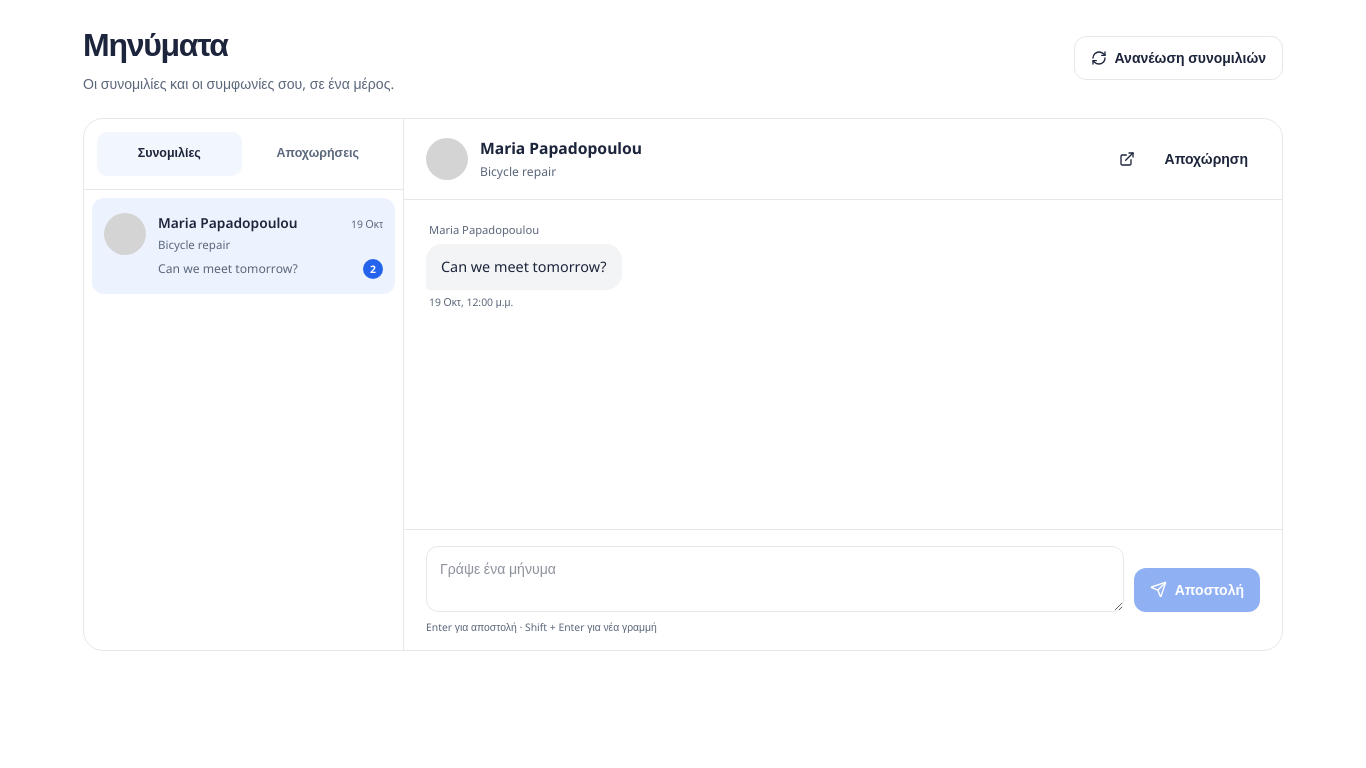
Inbox user journeys › shows the inbox, membership and send controls in Greek
Check: the heading "Μηνύματα" is shown, box x1=83 y1=22 x2=228 y2=65
Check: the text named "2 μη αναγνωσμένα" is shown, box x1=363 y1=259 x2=383 y2=279
Type "Γεια σου" into the text box labelled "μήνυμα" at (775, 579), box x1=426 y1=546 x2=1124 y2=612
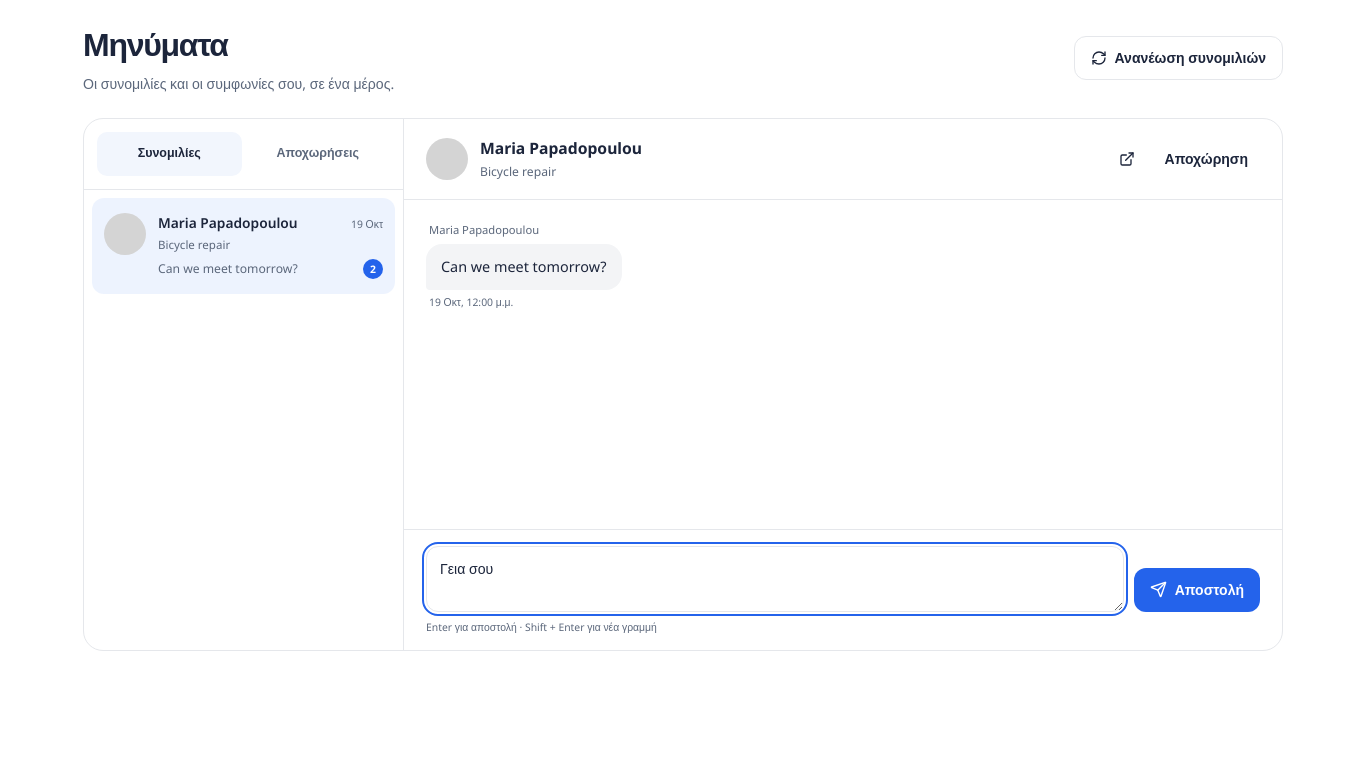
Check: the button "Αποστολή" is enabled, box x1=1134 y1=568 x2=1260 y2=612
Click the button "Αποχώρηση" at (1206, 159), box x1=1153 y1=137 x2=1260 y2=181
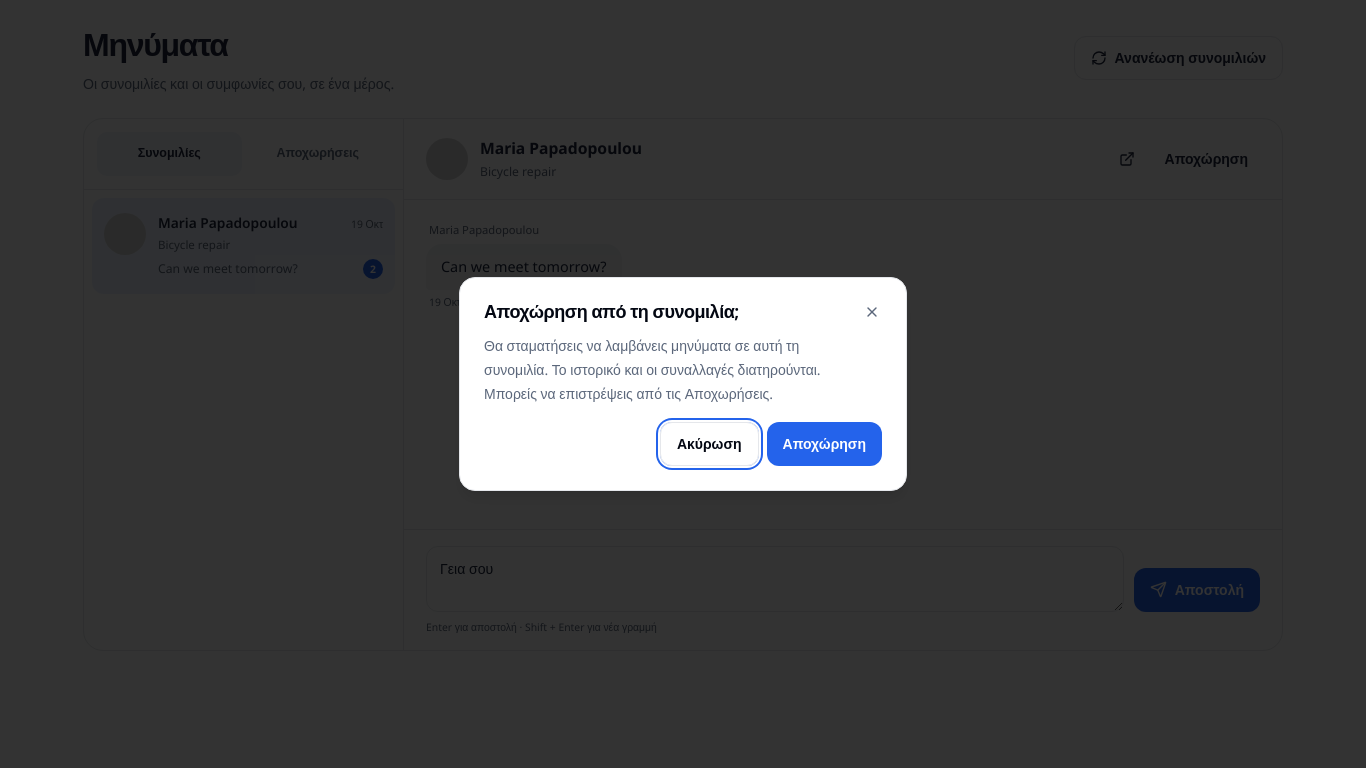
Check: the dialog "Αποχώρηση από τη συνομιλία;" is shown, box x1=459 y1=277 x2=907 y2=491
